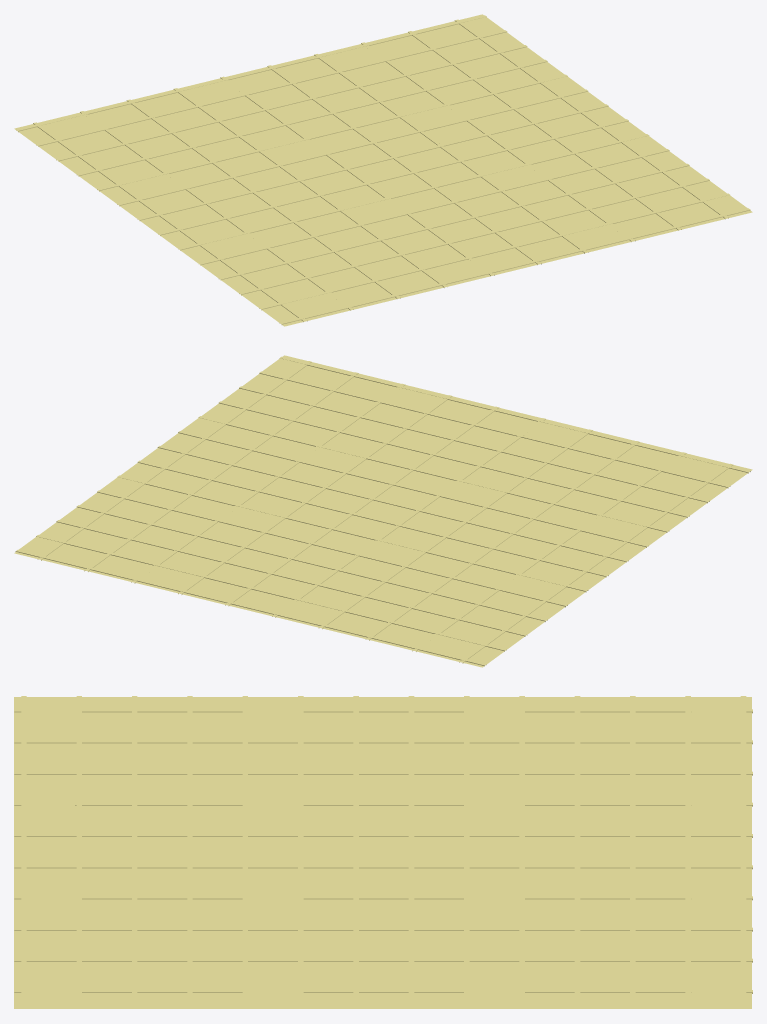
Rendered from lab ceiling 2.fbx.
The picture shows the model from 3 angles, top to bottom: view 1: azimuth 30°, elevation 25°; view 2: azimuth 150°, elevation 25°; view 3: azimuth 270°, elevation 25°; orthographic projection. The views are drawn at different scales.
Visible parts, largest first — view 1: Cloner_3; view 2: Cloner_3; view 3: Cloner_3.
Part boxes in pixels (<box>): Cloner_3: <box>14,14,752,326</box>; Cloner_3: <box>14,355,752,667</box>; Cloner_3: <box>14,696,752,1008</box>.
Bounding box in the file's own units: 400 × 1.1 × 401.
